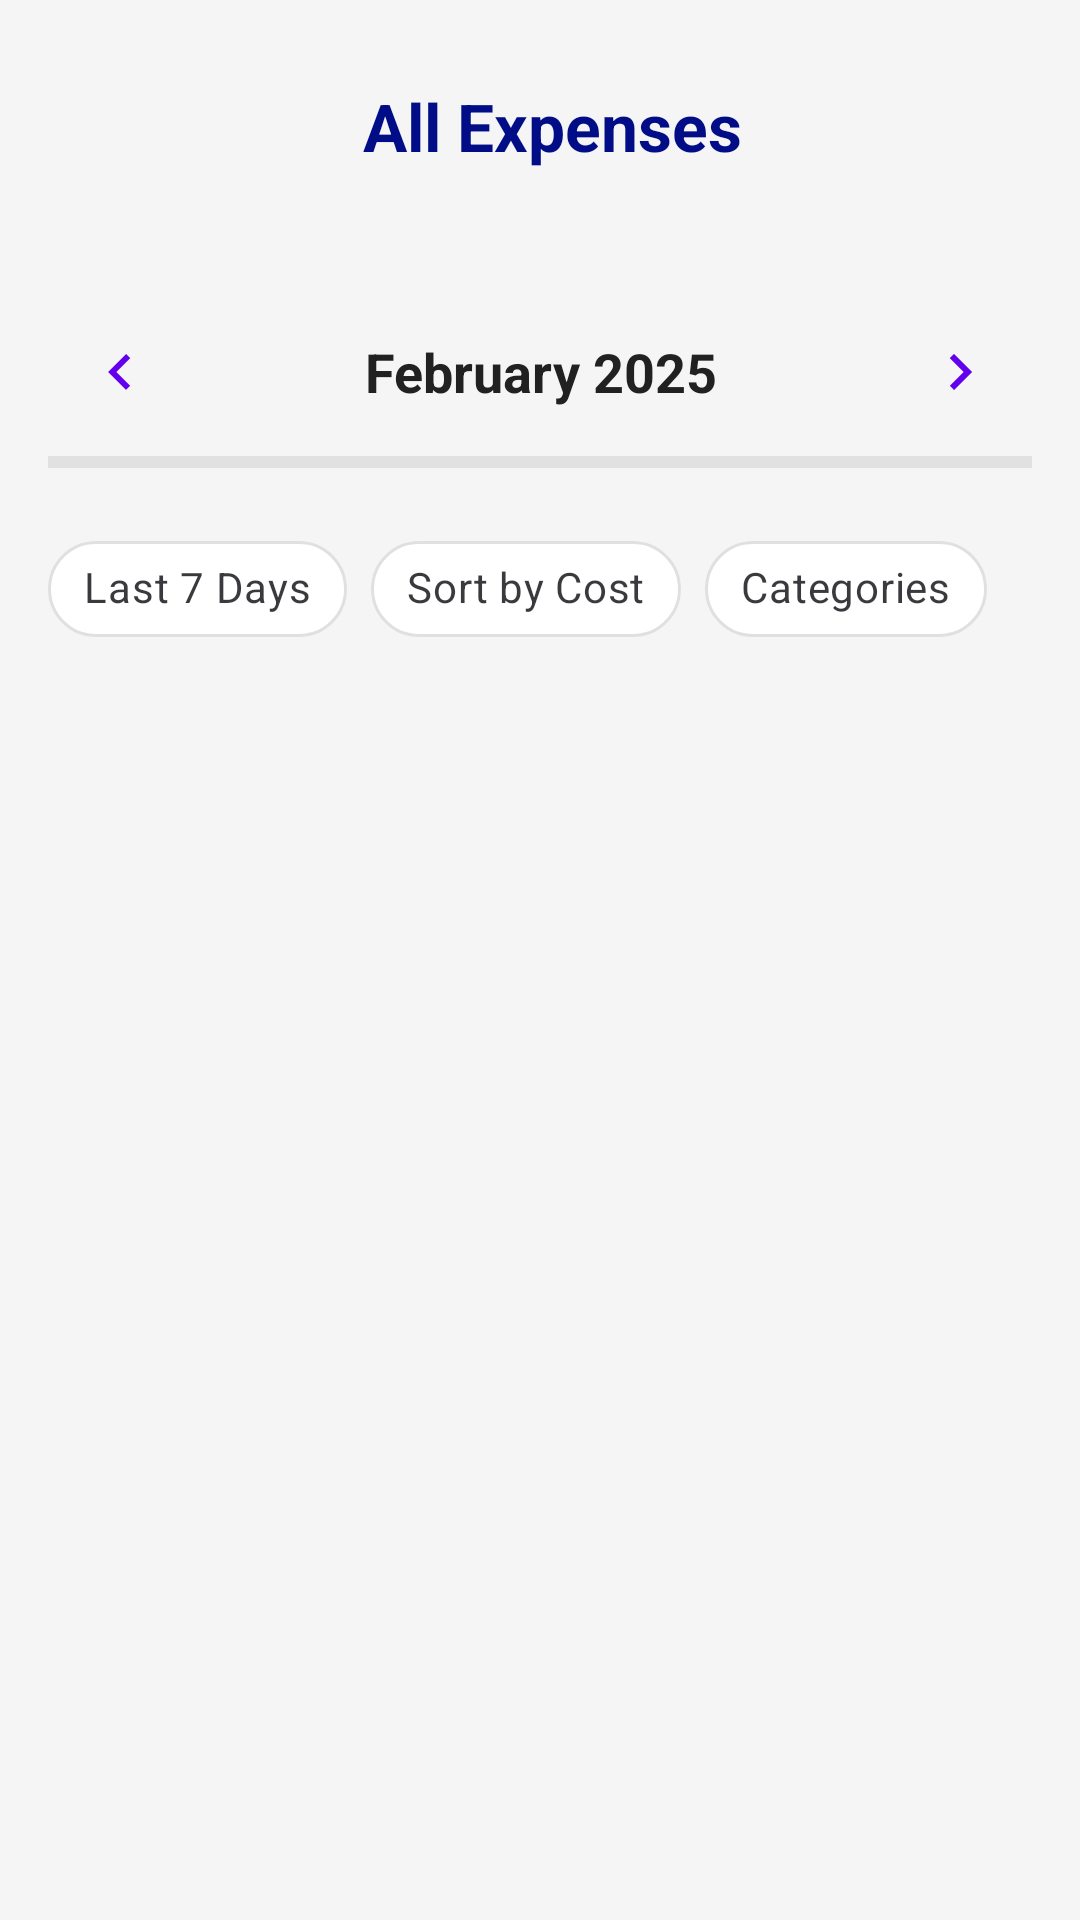

Icons on this 1080w x 1920h Android screen, each with its box as (x1,y1,x2,y2):
Next month: (950,354,972,390)
Previous month: (108,354,130,390)
